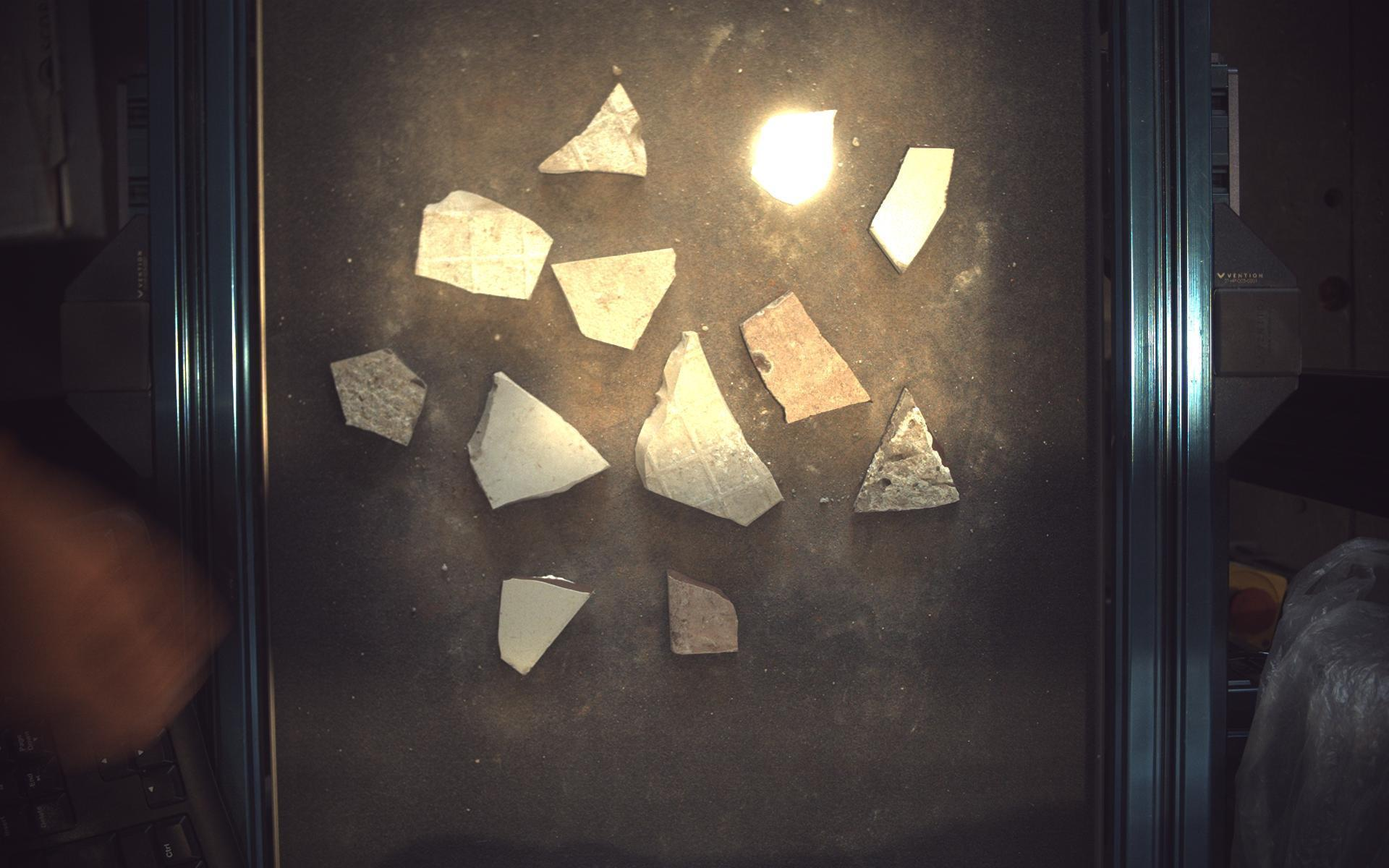tile: (637, 331, 784, 527), (467, 372, 610, 509), (742, 292, 872, 423), (415, 190, 553, 299), (857, 388, 961, 513), (552, 247, 676, 349), (871, 147, 956, 272), (539, 82, 647, 176), (330, 349, 427, 446), (498, 579, 591, 676), (753, 109, 838, 204), (668, 570, 739, 655)
